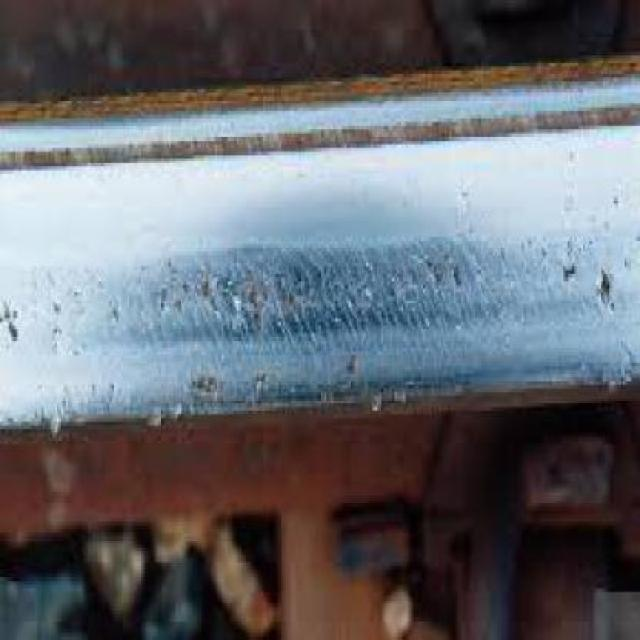defective: (3, 41, 640, 520)
